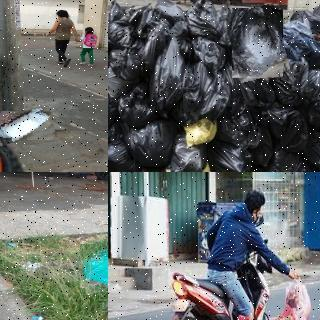Garbage: (151, 30, 205, 120), (228, 6, 287, 81), (214, 104, 275, 172), (120, 118, 174, 166), (0, 107, 54, 143), (108, 45, 142, 97), (283, 271, 316, 320), (77, 240, 108, 291), (299, 69, 320, 131), (268, 303, 316, 320), (303, 132, 320, 172)
